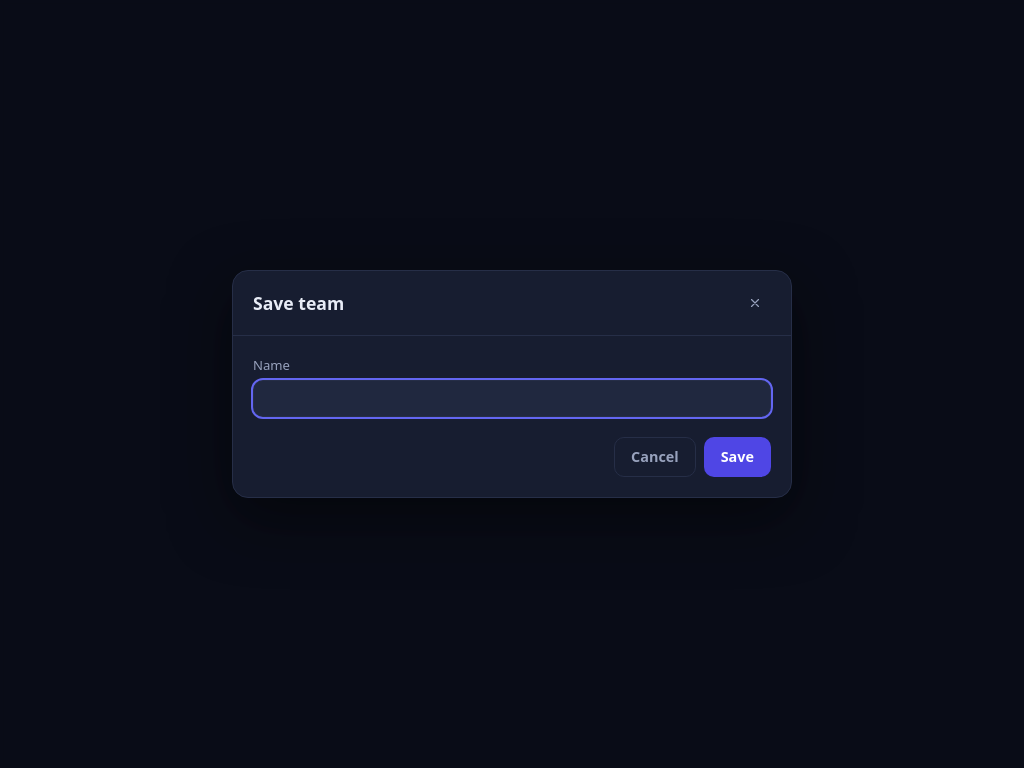
it: TeamNameDialog › refuses an empty name
Click the button "Save" at (737, 457), box [704,437,771,477]
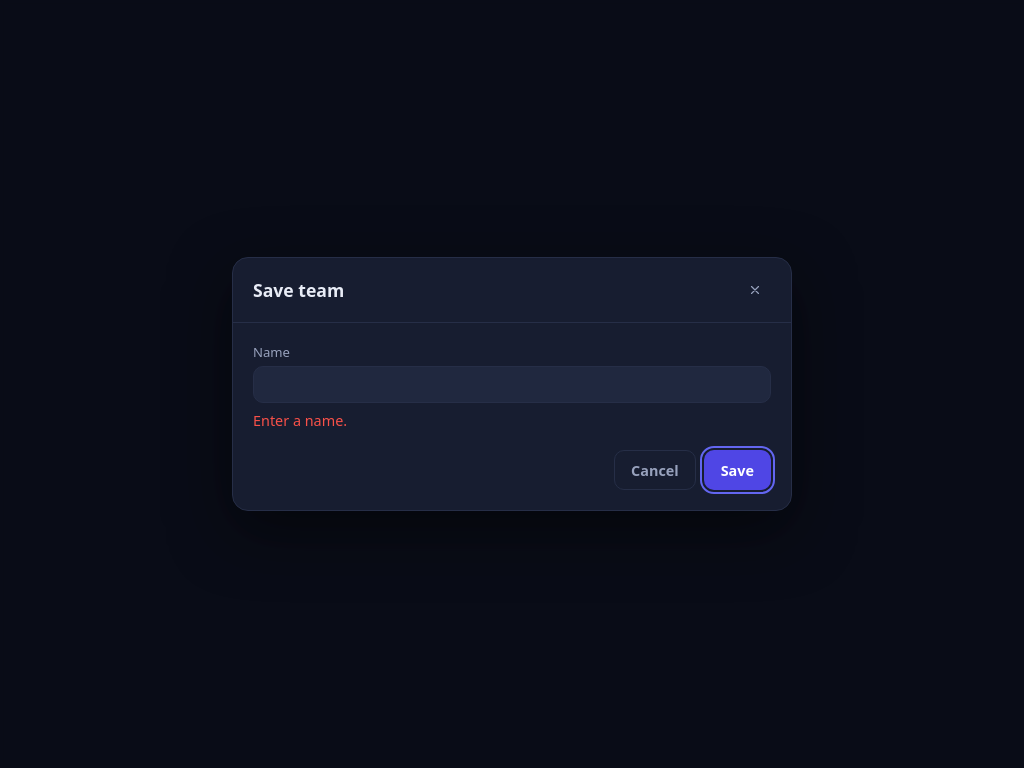
Expected: the message reads "Enter a name.", [253,411,347,430]
